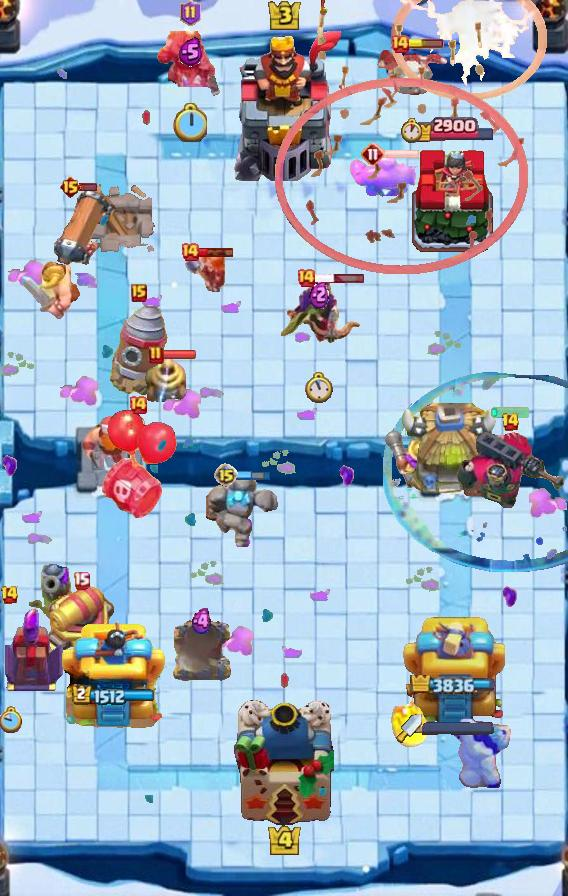bar: (401, 611, 505, 731)
barbarian-evolution: (391, 0, 547, 100)
barbarian-hut: (276, 277, 362, 355)
battle-healer: (54, 184, 116, 270)
bomb-tower: (385, 428, 435, 492), (24, 563, 74, 619)
electro-spirit: (178, 37, 202, 67), (189, 608, 215, 635), (309, 280, 329, 308)
elixir: (173, 103, 207, 142), (305, 372, 333, 404), (1, 706, 24, 733), (400, 117, 424, 142)
emote: (313, 273, 365, 284), (384, 148, 421, 160), (236, 470, 272, 482), (199, 246, 234, 258), (161, 348, 197, 359), (408, 39, 444, 49), (79, 182, 98, 192)
goblin-drill: (145, 357, 191, 405)
goblin-giant: (19, 256, 85, 320)
hog-rider: (183, 249, 227, 299)
ice-spirit: (490, 406, 530, 418)
ice-spirit-evolution-symbol: (0, 606, 64, 694)
inferno-dragon: (157, 31, 223, 103)
inferno-tower: (454, 429, 566, 515)
king-tower: (223, 31, 345, 181), (234, 700, 334, 826)
king-tower-bar: (422, 721, 494, 735)
magic-archer: (109, 302, 169, 396)
mighty-miner: (82, 411, 148, 475)
mini-pekka: (374, 46, 450, 98)
musketeer: (170, 618, 234, 684)
pad_0: (384, 370, 568, 572)
prince: (399, 403, 501, 499)
queen-tower: (60, 617, 168, 731), (410, 144, 496, 255)
rage: (447, 718, 512, 788)
royal-recruit: (42, 582, 120, 658)
royal-recruit-evolution: (98, 408, 178, 522)
selected: (410, 114, 496, 141), (72, 684, 156, 706), (410, 675, 496, 693)
skeleton-barrel: (275, 0, 530, 276)
text: (361, 142, 385, 166), (214, 463, 238, 487), (179, 0, 201, 26), (58, 175, 81, 199), (390, 34, 410, 54), (180, 242, 200, 262), (296, 268, 316, 288), (128, 395, 148, 415), (500, 412, 519, 432), (1, 585, 20, 605), (73, 570, 91, 589), (148, 345, 164, 365), (131, 284, 147, 302)
tornado: (349, 152, 423, 204)
valkyrie: (389, 685, 431, 751)
valkyrie-evolution: (206, 475, 282, 553)
